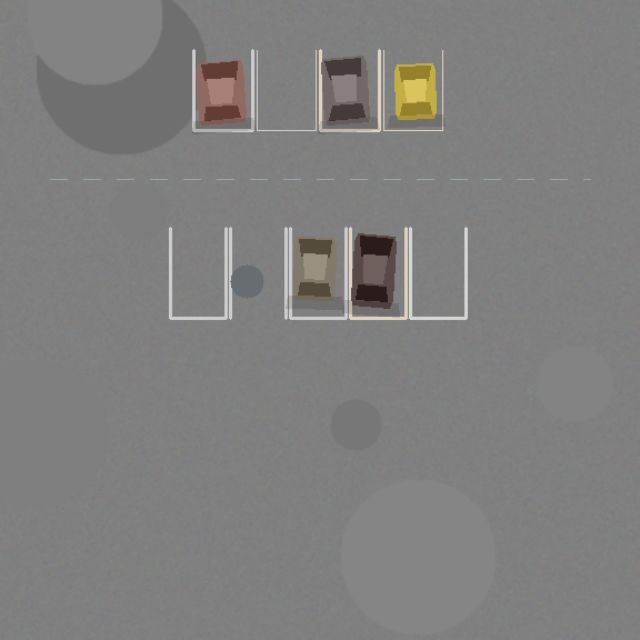space-empty: (170, 228, 226, 318), (230, 228, 286, 318), (410, 228, 466, 318), (257, 50, 316, 130)
space-occupied: (290, 228, 346, 318), (350, 228, 406, 318), (193, 50, 252, 130), (320, 50, 379, 130), (383, 50, 442, 130)
